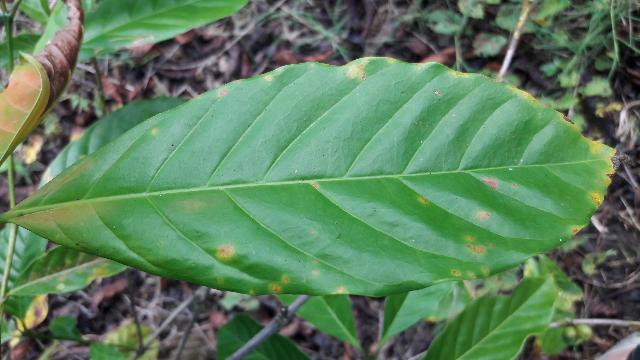rust_level_2: (6, 54, 629, 298)
